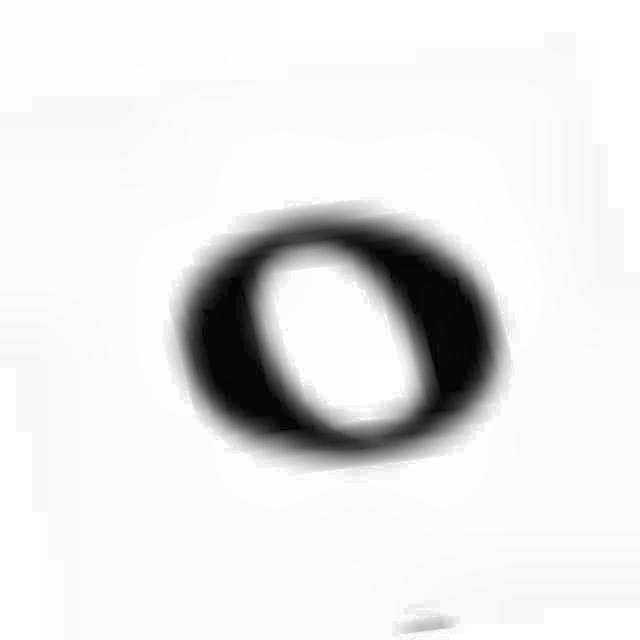Full-note: (160, 198, 528, 464)
